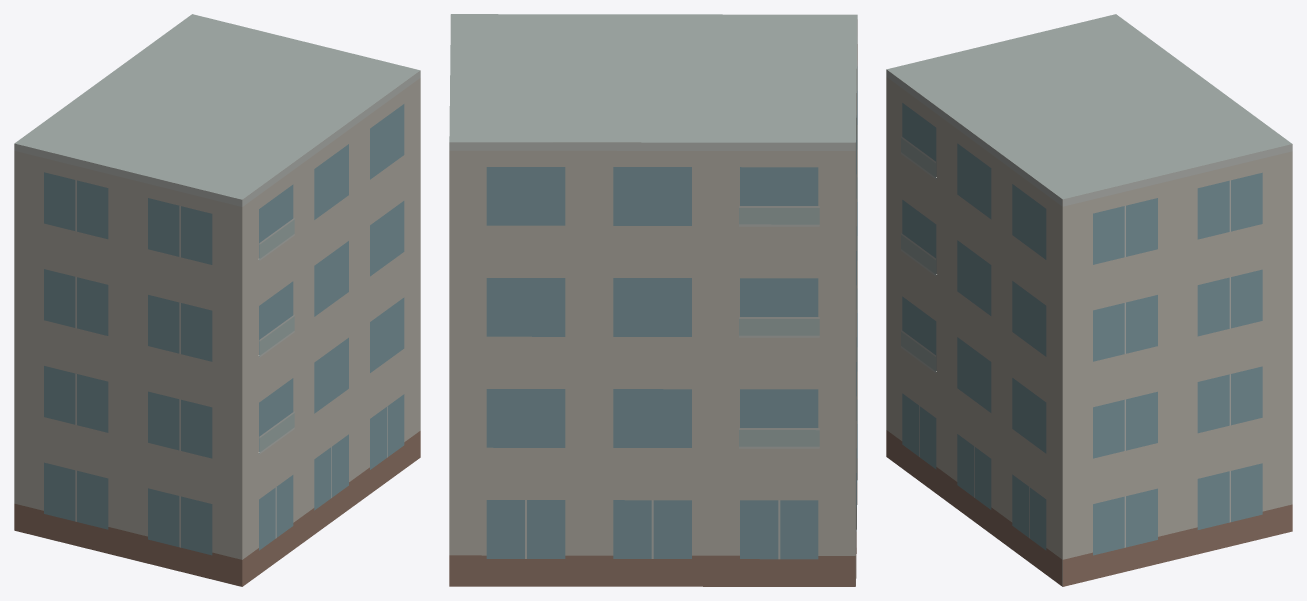
File: survey-upis-32524429.glb
The picture shows the model from 3 angles, left to right: view 1: azimuth 30°, elevation 25°; view 2: azimuth 150°, elevation 25°; view 3: azimuth 270°, elevation 25°; orthographic projection. The views are drawn at different scales.
Parts seen in each view (by area): view 1: survey-upis-32524429.tmp; view 2: survey-upis-32524429.tmp; view 3: survey-upis-32524429.tmp.
Part boxes in pixels (x1,y1,x2,y2): survey-upis-32524429.tmp: (14, 14, 420, 586); survey-upis-32524429.tmp: (449, 14, 857, 586); survey-upis-32524429.tmp: (886, 14, 1292, 586).
Bounding box in the file's own units: 13.25 × 12.9 × 12.26.
